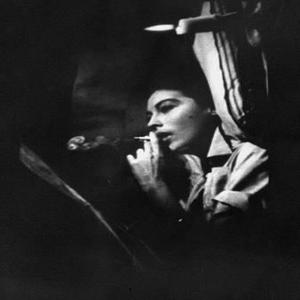cigarette: (131, 134, 155, 141)
